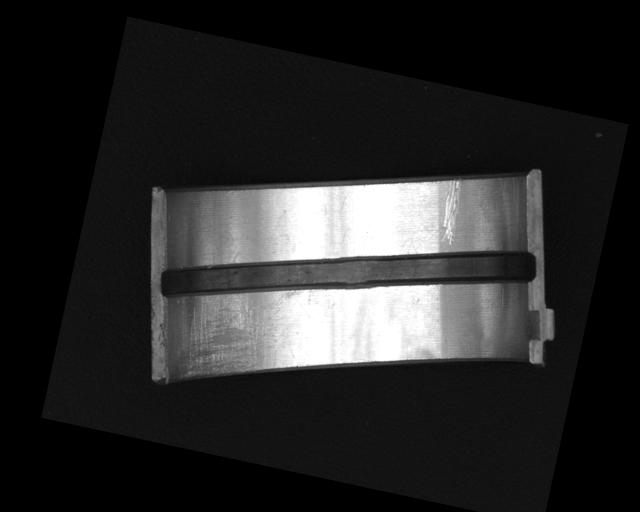gap: (158, 177, 540, 371)
nick: (435, 175, 467, 246)
scratch: (172, 268, 300, 398)
